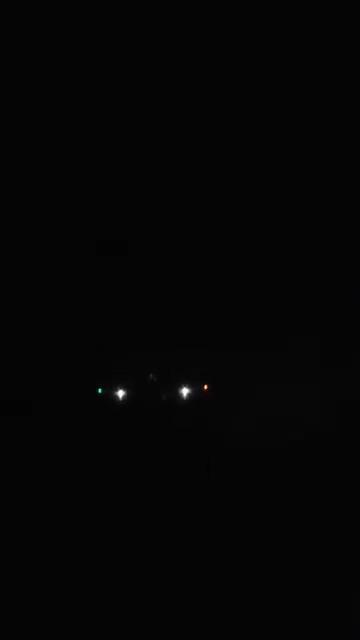Plane: (64, 340, 242, 435)
